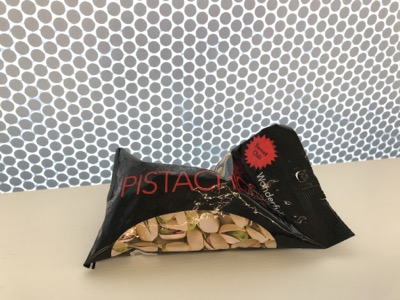pistachio: (84, 123, 357, 275)
